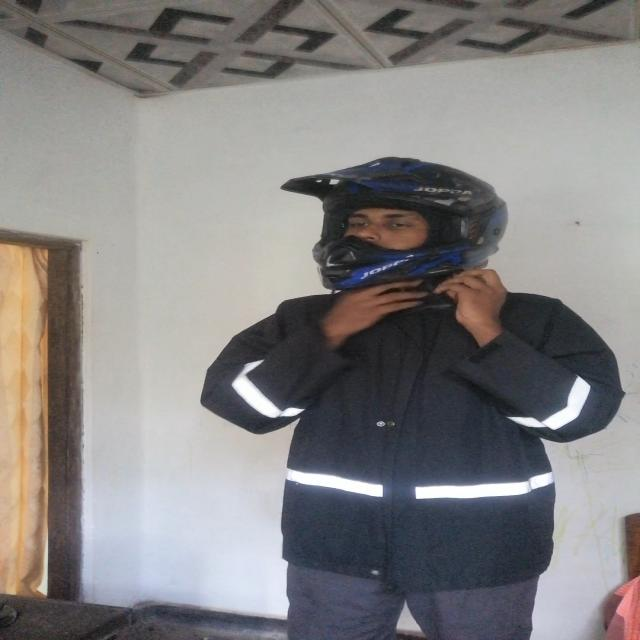Helmet_Wearer: (265, 153, 511, 306)
Jacket_Wearer: (213, 282, 624, 582)
Person: (222, 156, 627, 640)
